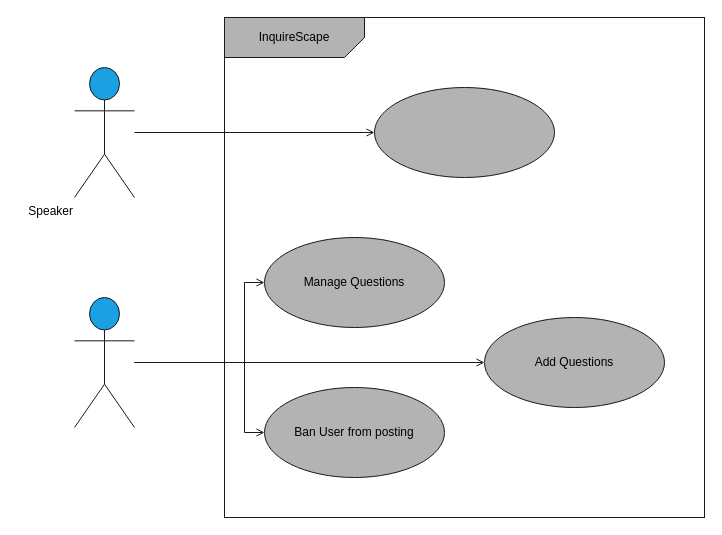
Some shapes in this 722 by 535 pixel diagram are drawn without their labels. Each missing label, with the box of its shape:
Moderator: (74, 296, 134, 428)
View/Sort Questions: (374, 86, 554, 178)
